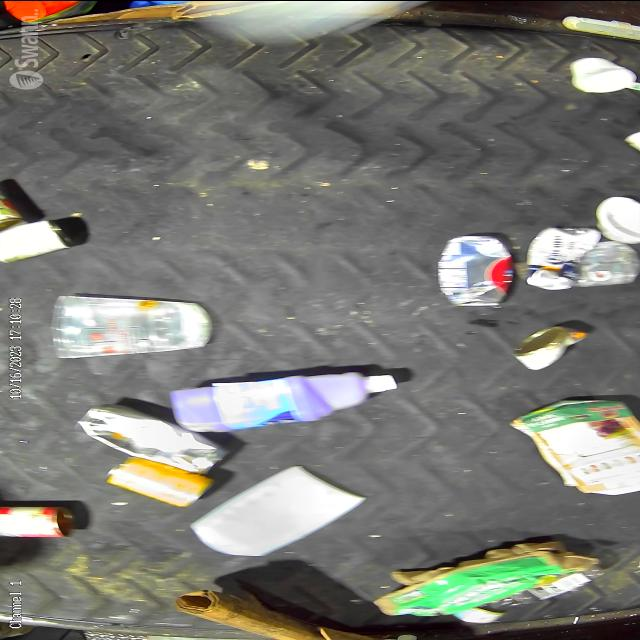can: (435, 242, 509, 308), (102, 462, 208, 508), (515, 325, 583, 369)
non_white_jug: (168, 366, 367, 438)
